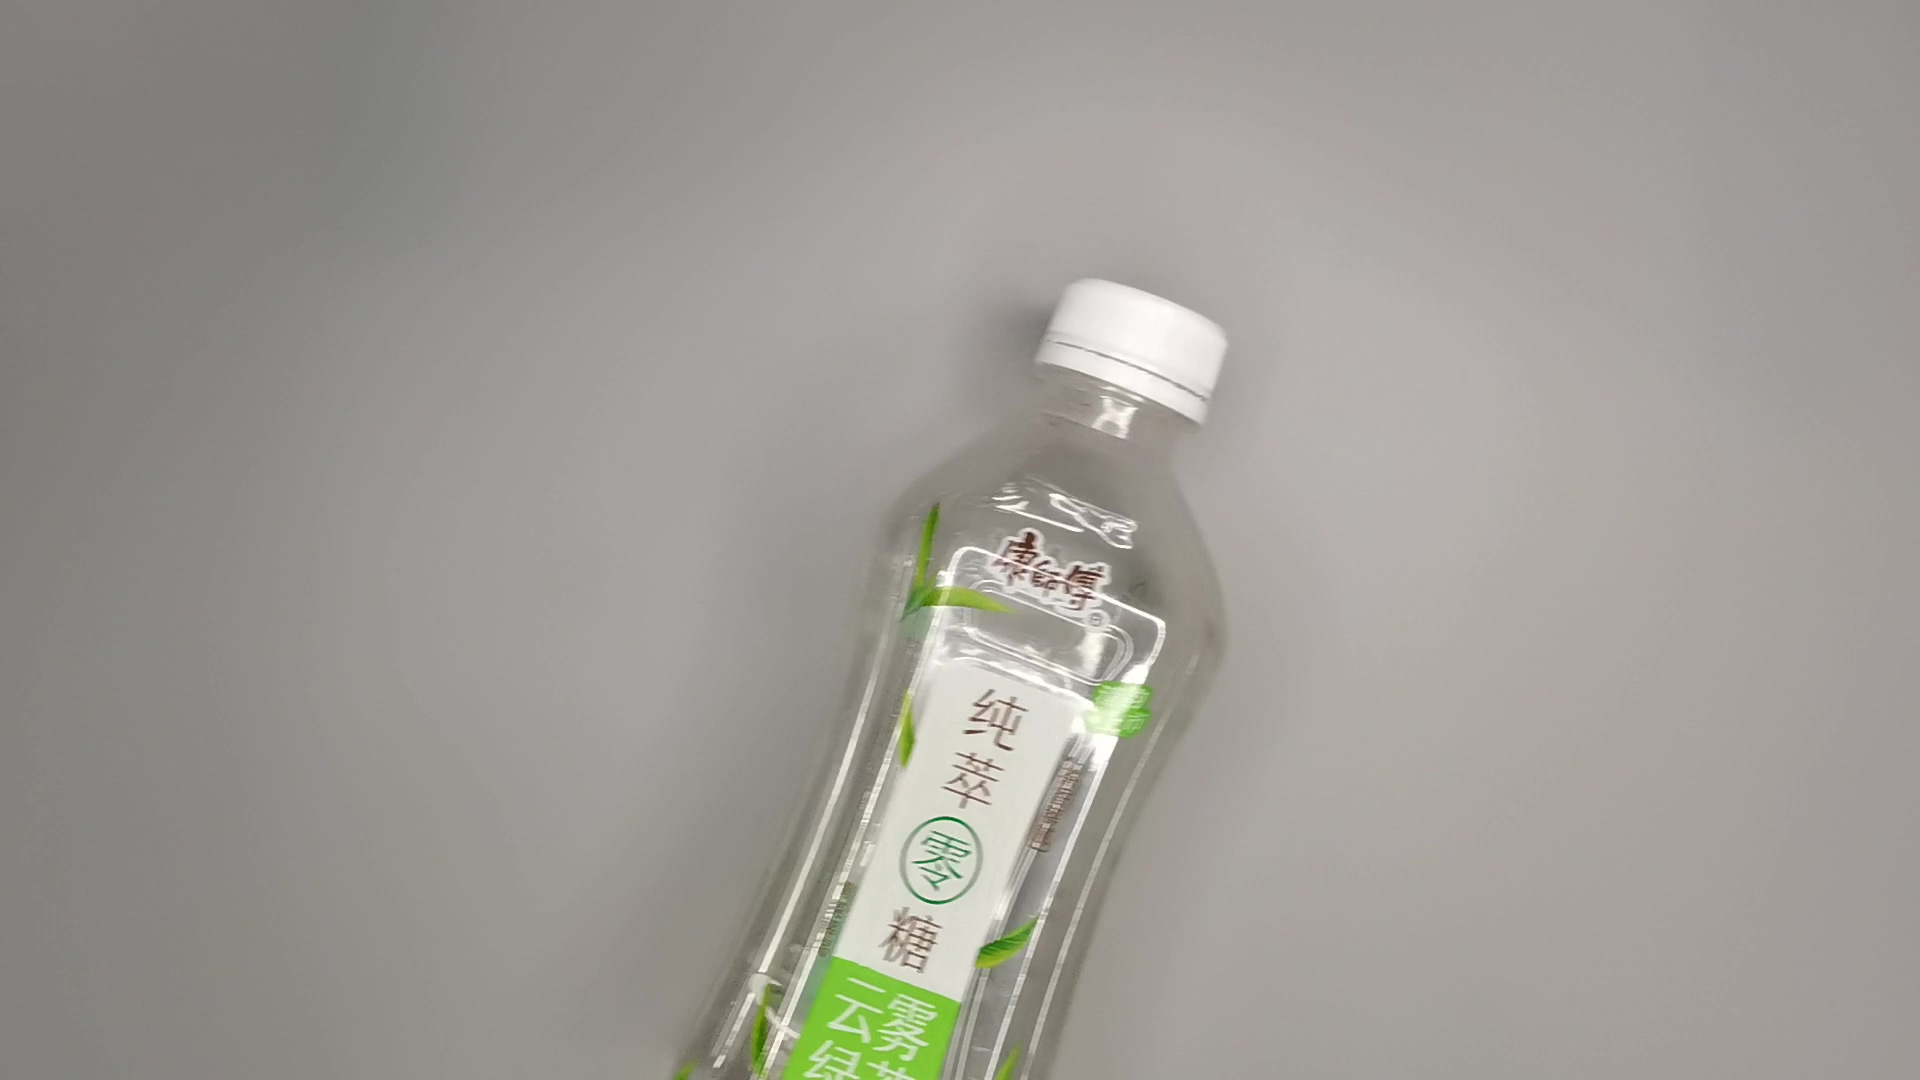bottle: (659, 272, 1242, 1080)
